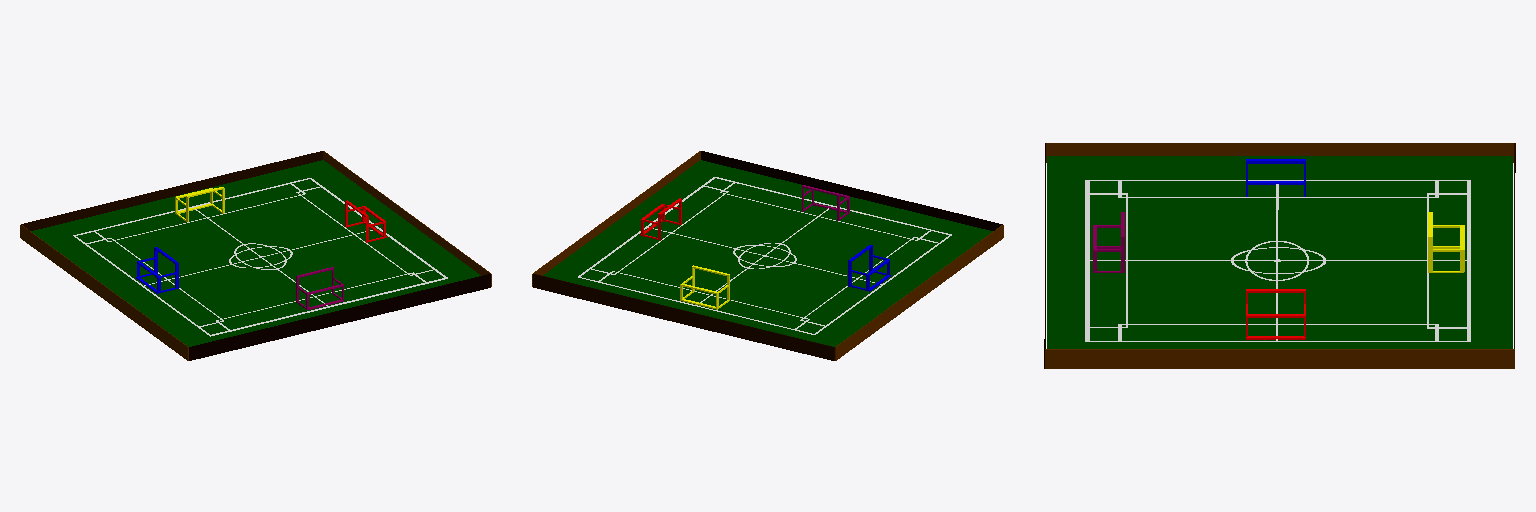
The robot description file, URDF, robot "arena":
<?xml version="1.0"?>
<!-- created with Phobos 1.0.1 "Capricious Choutengan" -->
  <robot name="arena">

    <link name="boundary">
      <inertial>
        <origin xyz="0 0 0" rpy="0 0 0"/>
        <mass value="0.001"/>
        <inertia ixx="0.001" ixy="0" ixz="0" iyy="0.001" iyz="0" izz="0.001"/>
      </inertial>
      <visual name="visual_0_field_1_20">
        <origin xyz="-0.31132 14.83351 0.41041" rpy="0 0 1.57"/>
        <geometry>
          <box size="0.06625 30.2086 1.32494"/>
        </geometry>
        <material name="field_1_20_visual_material"/>
      </visual>
      <visual name="visual_0_field_1_21">
        <origin xyz="-0.31132 -14.31513 0.41041" rpy="0 0 1.57"/>
        <geometry>
          <box size="0.06625 30.2086 1.32494"/>
        </geometry>
        <material name="field_1_21_visual_material"/>
      </visual>
      <visual name="visual_0_field_1_22">
        <origin xyz="14.84597 0.25919 0.41041" rpy="0 0 0"/>
        <geometry>
          <box size="0.06625 29.14865 1.32494"/>
        </geometry>
        <material name="field_1_22_visual_material"/>
      </visual>
      <visual name="visual_0_field_1_23">
        <origin xyz="-15.46862 0.25919 0.41041" rpy="0 0 0"/>
        <geometry>
          <box size="0.06625 29.14865 1.32494"/>
        </geometry>
        <material name="field_1_23_visual_material"/>
      </visual>
      <collision name="collision_0_field_1_20.000">
        <origin xyz="-0.31132 14.83351 0.41041" rpy="0 0 1.57"/>
        <geometry>
          <box size="0.06625 30.2086 1.32494"/>
        </geometry>
      </collision>
      <collision name="collision_0_field_1_21.000">
        <origin xyz="-0.31132 -14.31513 0.41041" rpy="0 0 1.57"/>
        <geometry>
          <box size="0.06625 30.2086 1.32494"/>
        </geometry>
      </collision>
      <collision name="collision_0_field_1_22.000">
        <origin xyz="14.84597 0.25919 0.41041" rpy="0 0 0"/>
        <geometry>
          <box size="0.06625 29.14865 1.32494"/>
        </geometry>
      </collision>
      <collision name="collision_0_field_1_23.000">
        <origin xyz="-15.46862 0.25919 0.41041" rpy="0 0 0"/>
        <geometry>
          <box size="0.06625 29.14865 1.32494"/>
        </geometry>
      </collision>
    </link>

    <link name="field_1">
      <inertial>
        <origin xyz="0 0 0" rpy="0 0 0"/>
        <mass value="0.001"/>
        <inertia ixx="0.001" ixy="0" ixz="0" iyy="0.001" iyz="0" izz="0.001"/>
      </inertial>
      <visual name="visual_0_field_1_10">
        <origin xyz="-0.31132 0.25919 0.00072" rpy="0 0 0"/>
        <geometry>
          <mesh filename="../meshes/dae/Field.001.dae" scale="2.91486 3.91726 3.97482"/>
        </geometry>
        <material name="field_1_10_visual_material"/>
      </visual>
      <collision name="collision_4_field_1">
        <origin xyz="-0.31132 0.25919 0.00072" rpy="0 0 0"/>
        <geometry>
          <box size="30.24656 28.98772 0.01192"/>
        </geometry>
      </collision>
    </link>

    <link name="field_1_10">
      <inertial>
        <origin xyz="0 0 0" rpy="0 0 0"/>
        <mass value="0.001"/>
        <inertia ixx="0.001" ixy="0" ixz="0" iyy="0.001" iyz="0" izz="0.001"/>
      </inertial>
    </link>

    <link name="field_1_3">
      <inertial>
        <origin xyz="0 0 0" rpy="0 0 0"/>
        <mass value="0.001"/>
        <inertia ixx="0.001" ixy="0" ixz="0" iyy="0.001" iyz="0" izz="0.001"/>
      </inertial>
      <visual name="visual_0_field_1_3">
        <origin xyz="-0.03359 0 0" rpy="0 0 0"/>
        <geometry>
          <mesh filename="../meshes/dae/Goalsopponent.dae" scale="2.57978 1.32494 1.32494"/>
        </geometry>
        <material name="field_1_3_visual_material"/>
      </visual>
      <visual name="visual_0_field_1_7">
        <origin xyz="0.56502 0 0.22932" rpy="0 0 0"/>
        <geometry>
          <mesh filename="../meshes/dae/Goalsopponentback.001.dae" scale="2.57978 1.32494 1.32494"/>
        </geometry>
        <material name="field_1_7_visual_material"/>
      </visual>
      <collision name="Cube.004">
        <origin xyz="0.2357 -1.7977 0.17498" rpy="0 0 -3.14159"/>
        <geometry>
          <box size="1.95524 0.2 2.0"/>
        </geometry>
      </collision>
      <collision name="Cube.005">
        <origin xyz="0.2357 1.80825 0.17498" rpy="0 0 -3.14159"/>
        <geometry>
          <box size="1.95524 0.2 2.0"/>
        </geometry>
      </collision>
      <collision name="Cube.008">
        <origin xyz="1.165 0.01854 0.15672" rpy="0 0 1.5708"/>
        <geometry>
          <box size="3.74004 0.25961 2.0"/>
        </geometry>
      </collision>
    </link>

    <link name="field_1_4">
      <inertial>
        <origin xyz="0 0 0" rpy="0 0 0"/>
        <mass value="0.001"/>
        <inertia ixx="0.001" ixy="0" ixz="0" iyy="0.001" iyz="0" izz="0.001"/>
      </inertial>
      <visual name="visual_0_field_1_4">
        <origin xyz="-0.10859 7e-05 0" rpy="0 0 0"/>
        <geometry>
          <mesh filename="../meshes/dae/Goalsopponent.002.dae" scale="2.47917 1.32494 1.32494"/>
        </geometry>
        <material name="field_1_4_visual_material"/>
      </visual>
      <visual name="visual_0_field_1_8">
        <origin xyz="0.54298 -7e-05 0.22932" rpy="0 0 0"/>
        <geometry>
          <mesh filename="../meshes/dae/Goalsopponentback.dae" scale="2.47917 1.32494 1.32494"/>
        </geometry>
        <material name="field_1_8_visual_material"/>
      </visual>
      <collision name="Cube">
        <origin xyz="0.22155 1.7592 0.17498" rpy="0 0 3.14095"/>
        <geometry>
          <box size="1.87899 0.2 2.0"/>
        </geometry>
      </collision>
      <collision name="Cube.006">
        <origin xyz="0.21802 -1.79562 0.17498" rpy="0 0 3.14095"/>
        <geometry>
          <box size="1.87899 0.2 2.0"/>
        </geometry>
      </collision>
      <collision name="Cube.010">
        <origin xyz="1.08134 -0.02375 0.15672" rpy="0 0 1.5698"/>
        <geometry>
          <box size="3.74005 0.24949 2.0"/>
        </geometry>
      </collision>
    </link>

    <link name="field_1_5">
      <inertial>
        <origin xyz="0 0 0" rpy="0 0 0"/>
        <mass value="0.001"/>
        <inertia ixx="0.001" ixy="0" ixz="0" iyy="0.001" iyz="0" izz="0.001"/>
      </inertial>
      <visual name="visual_0_field_1_1">
        <origin xyz="0.15078 0 0" rpy="0 0 0"/>
        <geometry>
          <mesh filename="../meshes/dae/Goalsally.dae" scale="2.68965 1.32494 1.32494"/>
        </geometry>
        <material name="field_1_1_visual_material"/>
      </visual>
      <visual name="visual_0_field_1_5">
        <origin xyz="-0.47088 0 0.22932" rpy="0 0 0"/>
        <geometry>
          <mesh filename="../meshes/dae/Goalsallyback.dae" scale="2.68965 1.32494 1.32494"/>
        </geometry>
        <material name="field_1_5_visual_material"/>
      </visual>
      <collision name="Cube.002">
        <origin xyz="-0.14939 1.77138 0.17497" rpy="0 0 -3.14159"/>
        <geometry>
          <box size="2.03851 0.2 2.0"/>
        </geometry>
      </collision>
      <collision name="Cube.003">
        <origin xyz="-0.14939 -1.7977 0.17497" rpy="0 0 -3.14159"/>
        <geometry>
          <box size="2.03851 0.2 2.0"/>
        </geometry>
      </collision>
      <collision name="Cube.009">
        <origin xyz="-1.0684 0.01854 0.15672" rpy="0 0 1.5708"/>
        <geometry>
          <box size="3.74004 0.27067 2.0"/>
        </geometry>
      </collision>
    </link>

    <link name="field_1_6">
      <inertial>
        <origin xyz="0 0 0" rpy="0 0 0"/>
        <mass value="0.001"/>
        <inertia ixx="0.001" ixy="0" ixz="0" iyy="0.001" iyz="0" izz="0.001"/>
      </inertial>
      <visual name="visual_0_field_1_2">
        <origin xyz="0.4494 0.00474 0" rpy="0 0 0"/>
        <geometry>
          <mesh filename="../meshes/dae/Goalsally.002.dae" scale="2.79345 1.32494 1.32494"/>
        </geometry>
        <material name="field_1_2_visual_material"/>
      </visual>
      <visual name="visual_0_field_1_6">
        <origin xyz="-0.29423 0.00516 0.22932" rpy="0 0 0"/>
        <geometry>
          <mesh filename="../meshes/dae/Goalsallyback.001.dae" scale="2.79345 1.32494 1.32494"/>
        </geometry>
        <material name="field_1_6_visual_material"/>
      </visual>
      <collision name="Cube.001">
        <origin xyz="0.16494 -1.73447 0.17498" rpy="0 0 3.14103"/>
        <geometry>
          <box size="2.11719 0.2 2.0"/>
        </geometry>
      </collision>
      <collision name="Cube.007">
        <origin xyz="0.15236 1.76396 0.17498" rpy="0 0 3.14103"/>
        <geometry>
          <box size="2.11719 0.2 2.0"/>
        </geometry>
      </collision>
      <collision name="Cube.011">
        <origin xyz="-0.84632 0.00907 0.15672" rpy="0 0 1.56968"/>
        <geometry>
          <box size="3.67759 0.28112 2.0"/>
        </geometry>
      </collision>
    </link>

    <link name="field_1_9">
      <inertial>
        <origin xyz="0 0 0" rpy="0 0 0"/>
        <mass value="0.001"/>
        <inertia ixx="0.001" ixy="0" ixz="0" iyy="0.001" iyz="0" izz="0.001"/>
      </inertial>
      <visual name="visual_0_field_1_11">
        <origin xyz="0.76012 -0.38752 -0.09037" rpy="0 0 1.57"/>
        <geometry>
          <mesh filename="../meshes/dae/Lines.dae" scale="2.64988 3.97482 3.97481"/>
        </geometry>
        <material name="field_1_11_visual_material"/>
      </visual>
      <visual name="visual_0_field_1_9">
        <origin xyz="-0.12568 -0.77279 -0.07037" rpy="0 0 0"/>
        <geometry>
          <mesh filename="../meshes/dae/Lines.002.dae" scale="2.64988 3.97482 3.97481"/>
        </geometry>
        <material name="field_1_9_visual_material"/>
      </visual>
    </link>

    <joint name="boundary" type="floating">
      <origin xyz="0 0 -0.22" rpy="0 0 0"/>
      <parent link="field_1"/>
      <child link="boundary"/>
    </joint>

    <joint name="field_1_10_fixing" type="fixed">
      <origin xyz="0 0.25919 0.12725" rpy="0 0 0"/>
      <parent link="field_1"/>
      <child link="field_1_10"/>
      <limit effort="1" velocity="20"/>
    </joint>

    <joint name="field_1_3_fixing" type="fixed">
      <origin xyz="10.30401 0 0.85994" rpy="0 0 0"/>
      <parent link="field_1"/>
      <child link="field_1_3"/>
      <limit effort="1" velocity="20"/>
    </joint>

    <joint name="field_1_4_fixing" type="fixed">
      <origin xyz="0 -10.15281 0.85994" rpy="0 0 -1.57"/>
      <parent link="field_1"/>
      <child link="field_1_4"/>
      <limit effort="1" velocity="20"/>
    </joint>

    <joint name="field_1_5_fixing" type="fixed">
      <origin xyz="-10.21168 0 0.85994" rpy="0 0 0"/>
      <parent link="field_1"/>
      <child link="field_1_5"/>
      <limit effort="1" velocity="20"/>
    </joint>

    <joint name="field_1_6_fixing" type="fixed">
      <origin xyz="0 10.71017 0.85994" rpy="0 0 -1.57"/>
      <parent link="field_1"/>
      <child link="field_1_6"/>
      <limit effort="1" velocity="20"/>
    </joint>

    <joint name="field_1_9_fixing" type="fixed">
      <origin xyz="0 0.25919 0.12725" rpy="0 0 0"/>
      <parent link="field_1"/>
      <child link="field_1_9"/>
      <limit effort="1" velocity="20"/>
    </joint>

    <material name="field_1_10_visual_material">
      <color rgba="0 0.3 0 1.0"/>
    </material>

    <material name="field_1_11_visual_material">
      <color rgba="0.91765 0.91765 0.91765 1.0"/>
    </material>

    <material name="field_1_1_visual_material">
      <color rgba="0 0 1.0 1.0"/>
    </material>

    <material name="field_1_20_visual_material">
      <color rgba="0.16265 0.06479 0.00725 1.0"/>
    </material>

    <material name="field_1_21_visual_material">
      <color rgba="0.08354 0.01947 0.00556 1.0"/>
    </material>

    <material name="field_1_22_visual_material">
      <color rgba="0.4 0.2 0 1.0"/>
    </material>

    <material name="field_1_23_visual_material">
      <color rgba="0.4 0.2 0 1.0"/>
    </material>

    <material name="field_1_2_visual_material">
      <color rgba="1.0 1.0 0 1.0"/>
    </material>

    <material name="field_1_3_visual_material">
      <color rgba="1.0 0 0 1.0"/>
    </material>

    <material name="field_1_4_visual_material">
      <color rgba="0.6 0 0.4 1.0"/>
    </material>

    <material name="field_1_5_visual_material">
      <color rgba="0 0 1.0 1.0"/>
    </material>

    <material name="field_1_6_visual_material">
      <color rgba="1.0 1.0 0 1.0"/>
    </material>

    <material name="field_1_7_visual_material">
      <color rgba="1.0 0 0 1.0"/>
    </material>

    <material name="field_1_8_visual_material">
      <color rgba="0.6 0 0.4 1.0"/>
    </material>

    <material name="field_1_9_visual_material">
      <color rgba="0.91765 0.91765 0.91765 1.0"/>
    </material>

  </robot>

--- Facts derived from the render (not from the file) ---
Views: 3 orthographic renders of the robot side by side, from view 1: azimuth 30°, elevation 25°; view 2: azimuth 150°, elevation 25°; view 3: azimuth 270°, elevation 25°.
Robot: arena — 8 links, 7 joints (6 fixed, 1 floating); root link field_1; default pose: all joints at 0.
Links seen in each view (by area): view 1: field_1, boundary, field_1_9, field_1_5, field_1_6, field_1_4, field_1_3; view 2: field_1, boundary, field_1_9, field_1_5, field_1_6, field_1_3; view 3: field_1, boundary, field_1_9, field_1_3, field_1_6, field_1_4, field_1_5.
Boxes of the visible links, x1,y1,x2,y2 form: field_1: [31, 160, 480, 346]; boundary: [20, 151, 491, 360]; field_1_9: [73, 178, 447, 336]; field_1_5: [136, 247, 178, 293]; field_1_6: [175, 187, 224, 221]; field_1_4: [296, 267, 343, 309]; field_1_3: [345, 200, 386, 242]; field_1: [543, 160, 992, 346]; boundary: [532, 151, 1003, 360]; field_1_9: [578, 177, 951, 334]; field_1_5: [848, 245, 890, 291]; field_1_6: [680, 265, 729, 309]; field_1_3: [640, 198, 681, 240]; field_1: [1047, 156, 1512, 348]; boundary: [1044, 143, 1515, 368]; field_1_9: [1085, 180, 1470, 341]; field_1_3: [1246, 289, 1305, 339]; field_1_6: [1428, 212, 1464, 272]; field_1_4: [1093, 212, 1124, 272]; field_1_5: [1246, 159, 1305, 196].
Size in the robot's own frame: 30.38 by 29.24 by 2.99 metres.
Meshes: 11 distinct files referenced, 11 mesh visuals loaded (11 Collada DAE).